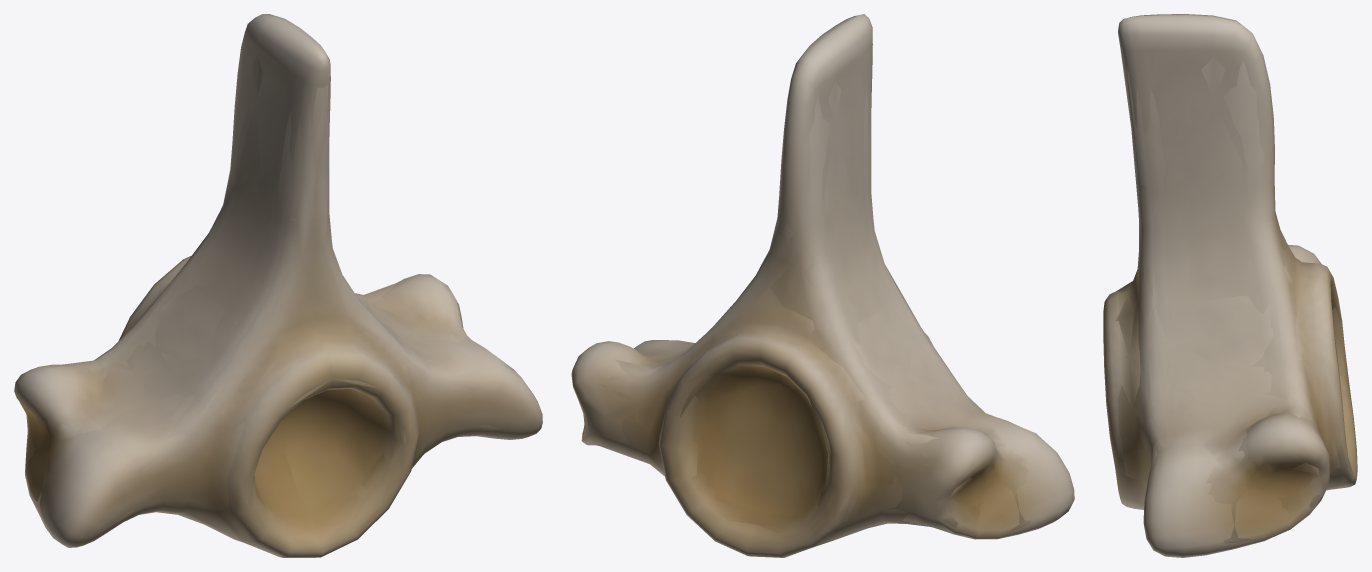
File: vertebrae thoracicae 14.fbx
3 renders of one model, left to right at view 1: azimuth 30°, elevation 25°; view 2: azimuth 150°, elevation 25°; view 3: azimuth 270°, elevation 25°, orthographic. The views are drawn at different scales.
Visible parts, largest first — view 1: vertebrae thoracicae 14, vertebrae thoracicae 14 low; view 2: vertebrae thoracicae 14, vertebrae thoracicae 14 low; view 3: vertebrae thoracicae 14, vertebrae thoracicae 14 low.
Boxes of the visible parts, x1=… form: vertebrae thoracicae 14: x1=14, y1=14, x2=542, y2=557; vertebrae thoracicae 14 low: x1=19, y1=49, x2=501, y2=551; vertebrae thoracicae 14: x1=571, y1=14, x2=1074, y2=557; vertebrae thoracicae 14 low: x1=584, y1=80, x2=1031, y2=539; vertebrae thoracicae 14: x1=1103, y1=14, x2=1357, y2=557; vertebrae thoracicae 14 low: x1=1116, y1=50, x2=1345, y2=543.
Size of the model in its own units: 5.53 by 5.62 by 2.67.
Materials: 1 (1 with a texture image).
